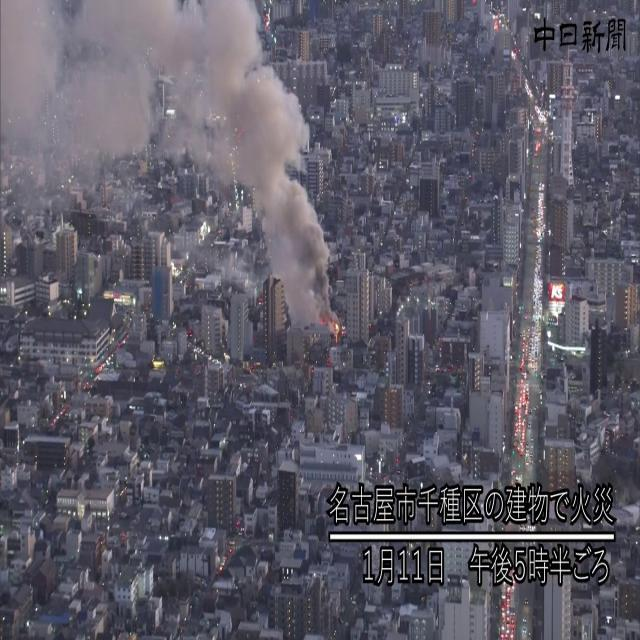Smoke: (179, 1, 338, 326)
